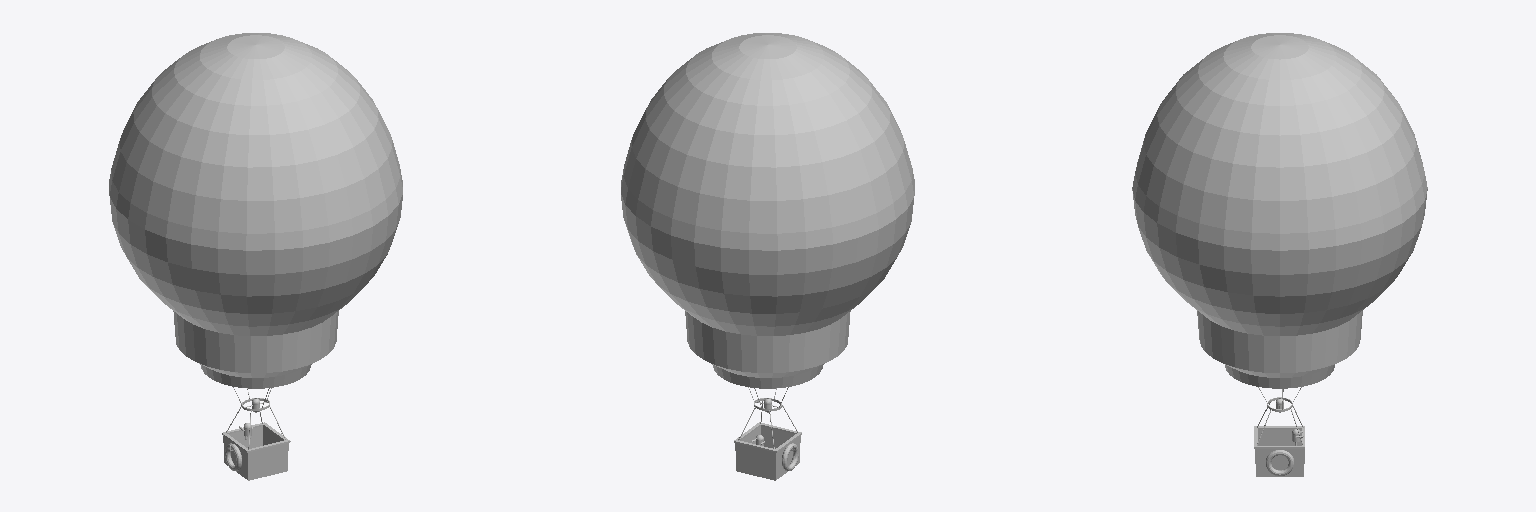
The model's file is Globo aerostatico.obj.
3 views of the same model, side by side, from view 1: azimuth 30°, elevation 25°; view 2: azimuth 150°, elevation 25°; view 3: azimuth 270°, elevation 25° (orthographic).
Visible parts, largest first — view 1: Esfera, Cubo; view 2: Esfera, Cubo; view 3: Esfera, Cubo.
Part boxes in pixels (bbox=[...]): Esfera: bbox=[109, 33, 402, 388]; Cubo: bbox=[223, 426, 288, 480]; Esfera: bbox=[621, 33, 914, 388]; Cubo: bbox=[735, 426, 800, 480]; Esfera: bbox=[1132, 33, 1427, 388]; Cubo: bbox=[1255, 429, 1304, 476].
Bounding box in the file's own units: 4.44 × 7 × 4.44.